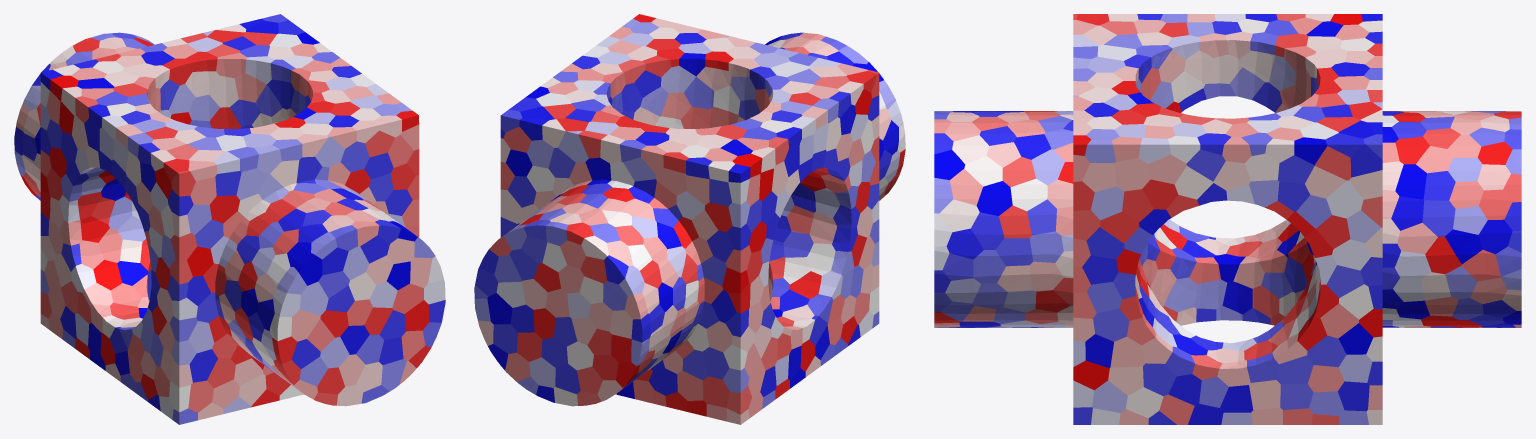
The model's file is Ours_1000_block_Iter5_RVD.obj.
The picture shows the model from 3 angles, left to right: view 1: azimuth 30°, elevation 25°; view 2: azimuth 150°, elevation 25°; view 3: azimuth 270°, elevation 25°; orthographic projection. The views are drawn at different scales.
Visible parts, largest first — view 1: 3D_Object; view 2: 3D_Object; view 3: 3D_Object.
Boxes of the visible parts, x1,y1,x2,y2 form: 3D_Object: [14, 14, 445, 424]; 3D_Object: [474, 14, 905, 424]; 3D_Object: [934, 14, 1521, 424].
Size of the model in its own units: 20 by 20 by 38.
Materials: 1 (1 with a texture image).
